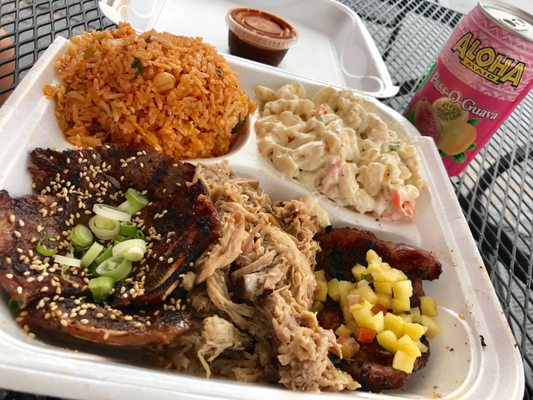pizza: (98, 0, 168, 33)
